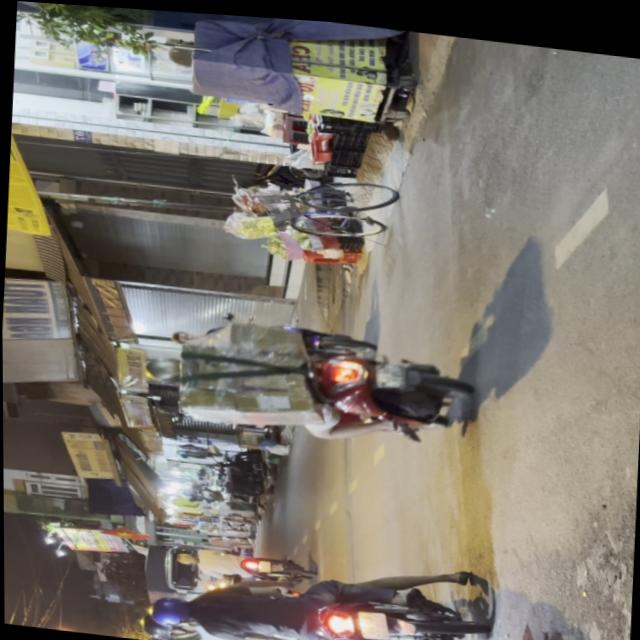helmet: (141, 351, 187, 383), (148, 591, 196, 621), (147, 603, 194, 625)
licenseplate: (127, 313, 477, 451), (137, 534, 487, 640)
nohelmet: (354, 605, 386, 635), (373, 356, 403, 383)
